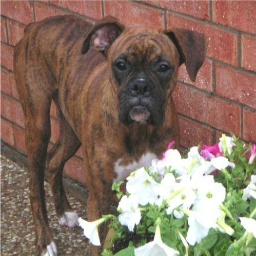dog: (11, 14, 204, 256)
